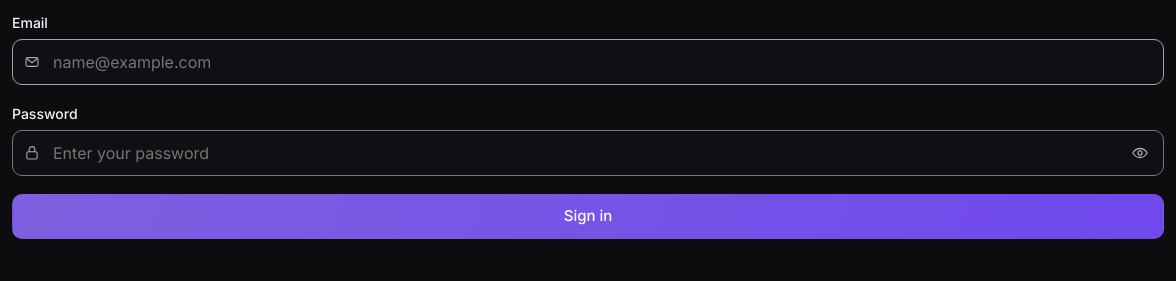
Test case: SignInForm › shows a field error only once the field is left, not while typing
Type "john@" into the field with id "email".
click(588, 62); type("john@")  # box [12, 39, 1164, 85]
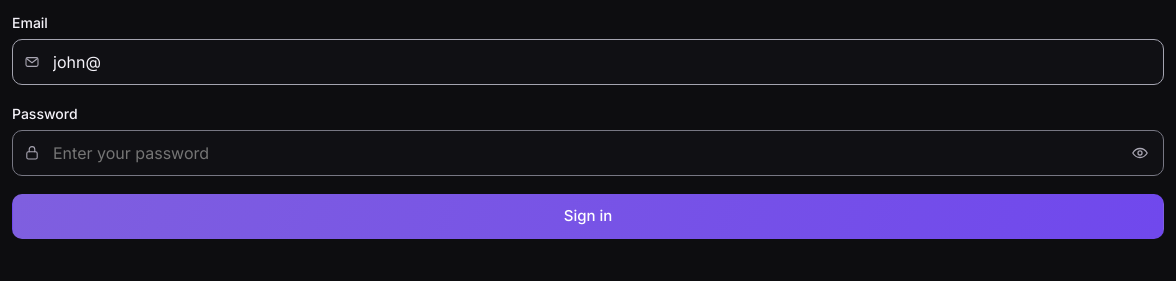
Check: the text "Enter a valid email" is not shown
Leave the field with id "email", box [12, 39, 1164, 85]
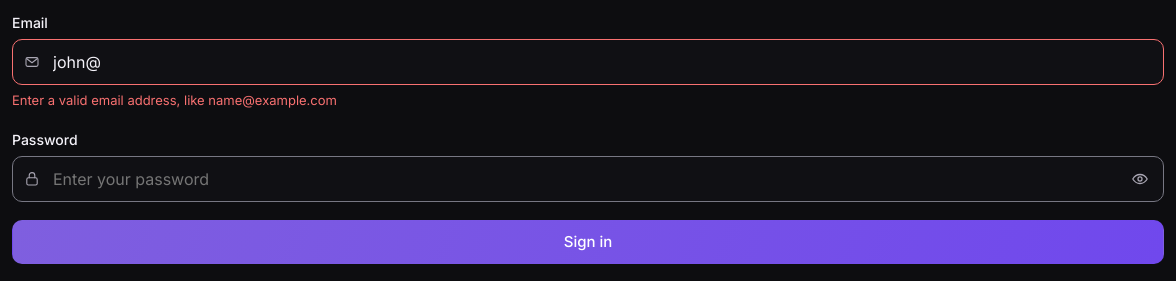
Check: the text "Enter a valid email" is shown, box [12, 92, 337, 108]
